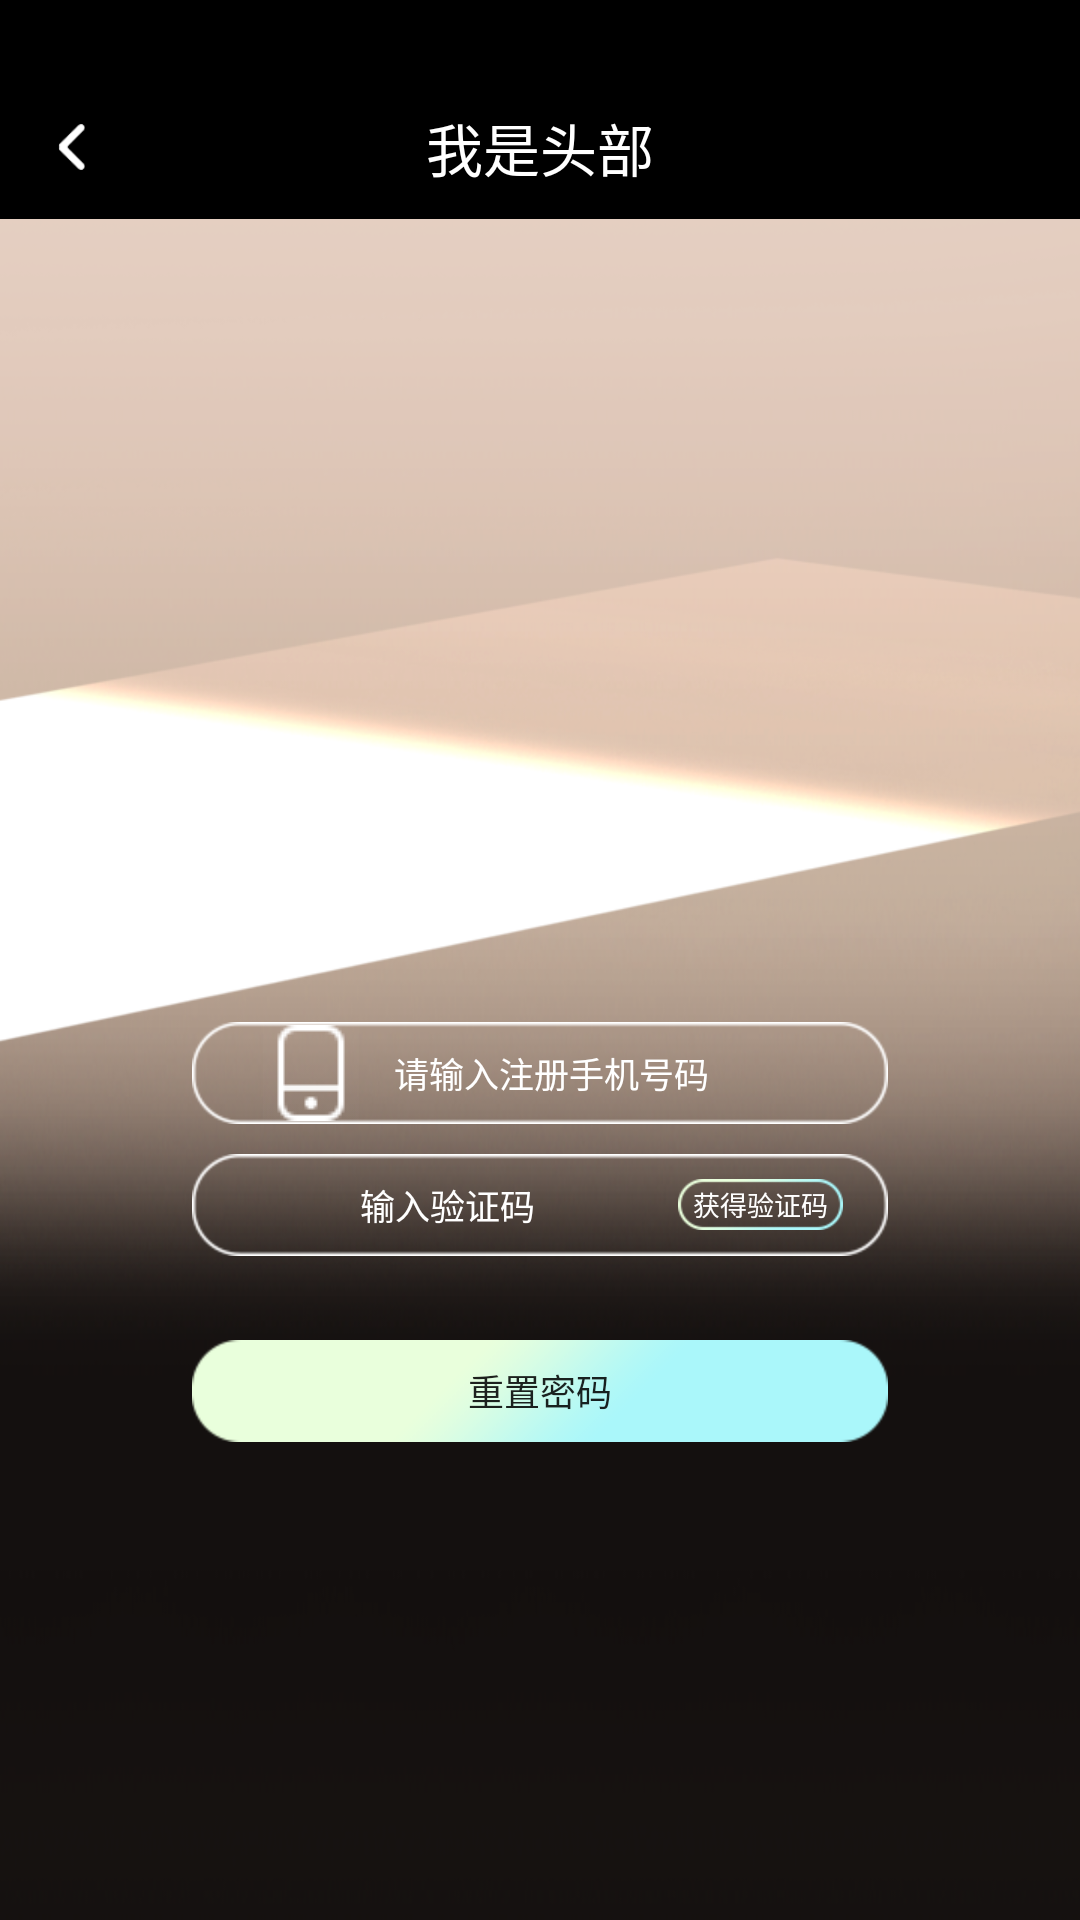

Screen size 1080*1920. Icon name, then its center in pixels as (x,y):
login username: (311,1073)
title back: (72,147)
